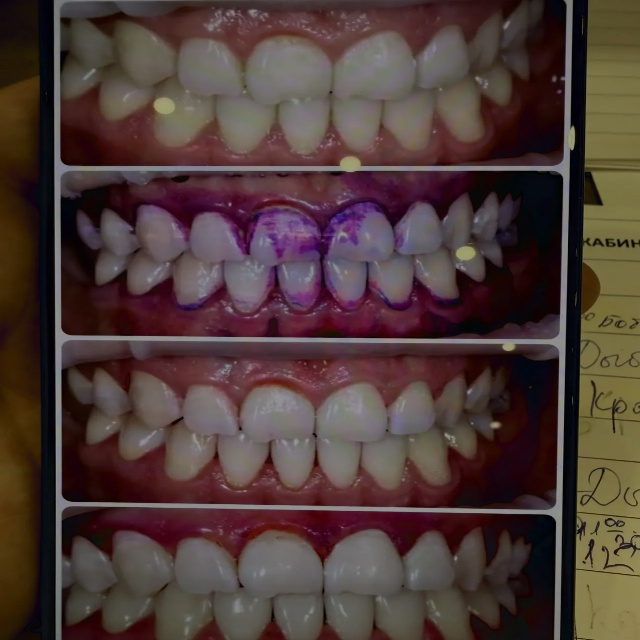plaque: (137, 173, 435, 314), (340, 284, 417, 316)
